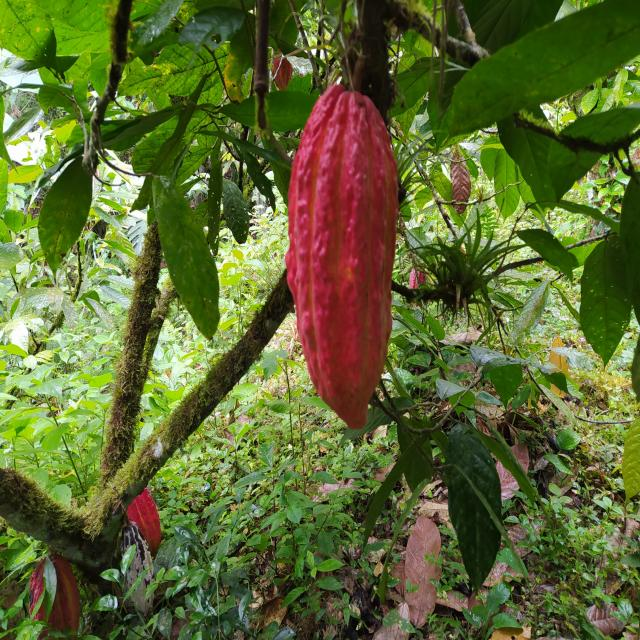Monilia: (120, 522, 156, 618)
Sana: (286, 81, 398, 431), (28, 553, 82, 640), (126, 480, 160, 556)
